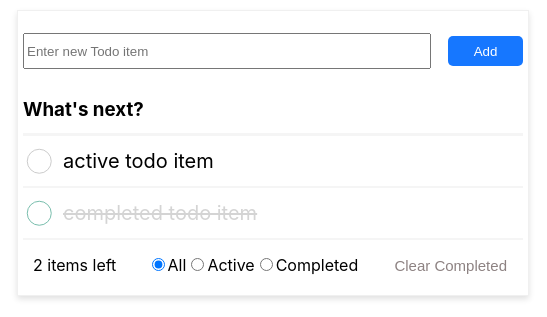
Scenario: TodoList › should delete todo
Hover over the text "active todo item": coordinates (138, 161) [63, 149, 214, 173]
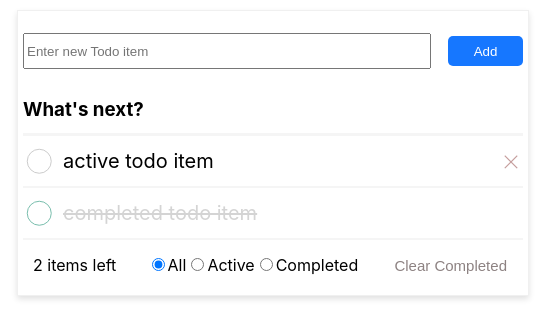
Check: the button "x" is shown
Click the button "x": coordinates (512, 161) [500, 150, 523, 172]
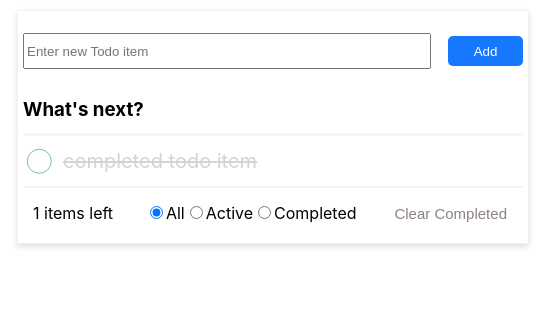
Check: the text "active todo item" is gone
